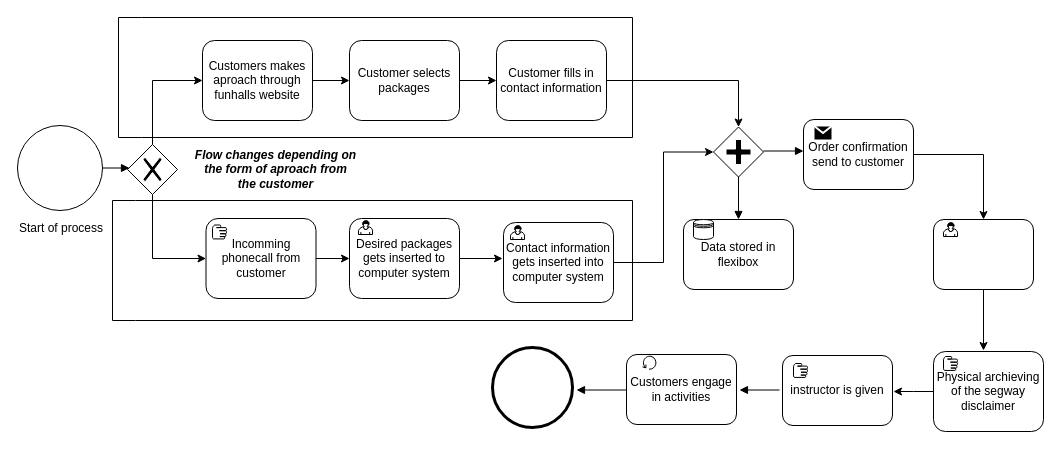
Image size: 1061x466. Some labels were removed from this diagram. The shapes that lost their labels are listed below. From the top down, each one's box as (x1, y1, x2, y2) in pixels, then its label:
(118, 16, 632, 138): Customer actions
(112, 200, 632, 320): Employee actions
(932, 218, 1034, 290): Customer check-in at Funhall
(492, 346, 572, 428): End of process
